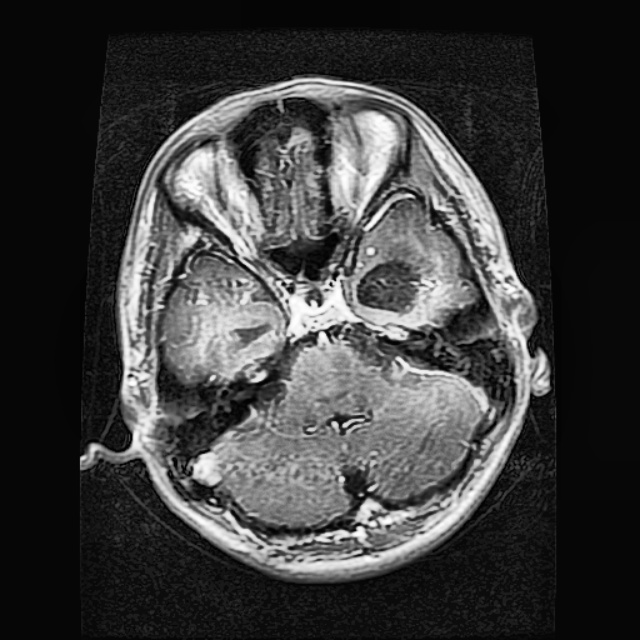Glioma: (350, 260, 425, 314)
